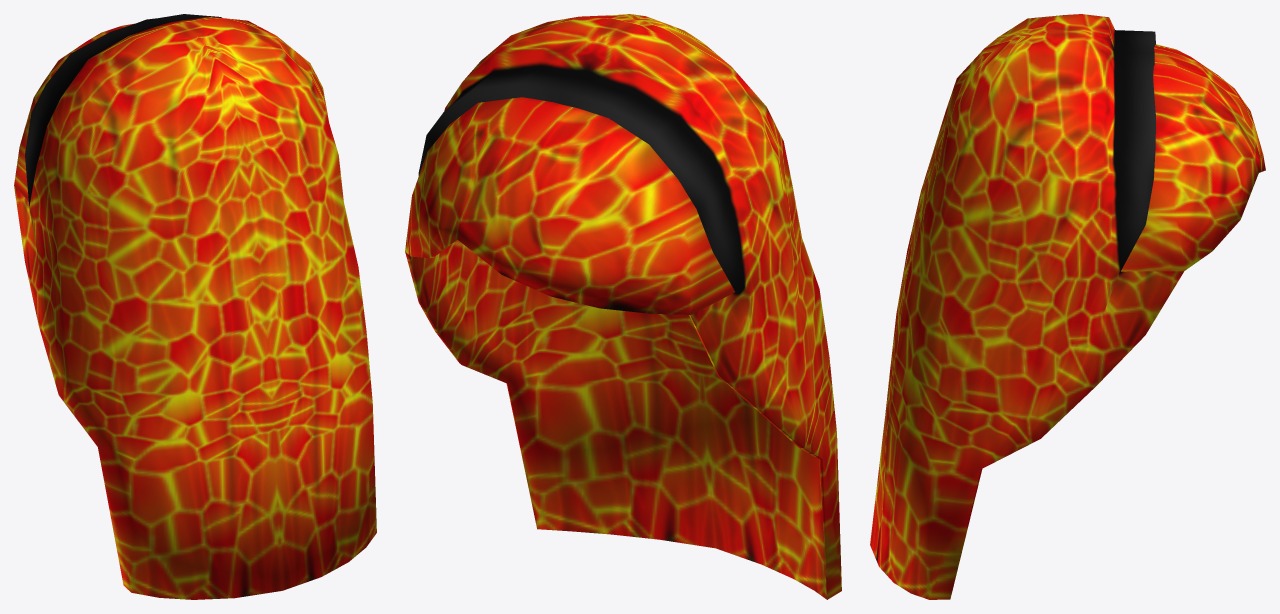
The picture shows the model from 3 angles, left to right: view 1: azimuth 30°, elevation 25°; view 2: azimuth 150°, elevation 25°; view 3: azimuth 270°, elevation 25°; orthographic projection. The views are drawn at different scales.
Parts seen in each view (by area): view 1: geometry_0; view 2: geometry_0; view 3: geometry_0.
Part boxes in pixels (x1=…): geometry_0: x1=14, y1=14, x2=376, y2=599; geometry_0: x1=405, y1=14, x2=841, y2=599; geometry_0: x1=870, y1=14, x2=1265, y2=599.
Bounding box in the file's own units: 1.38 × 2.28 × 1.59.
Materials: 1 (1 with a texture image).
